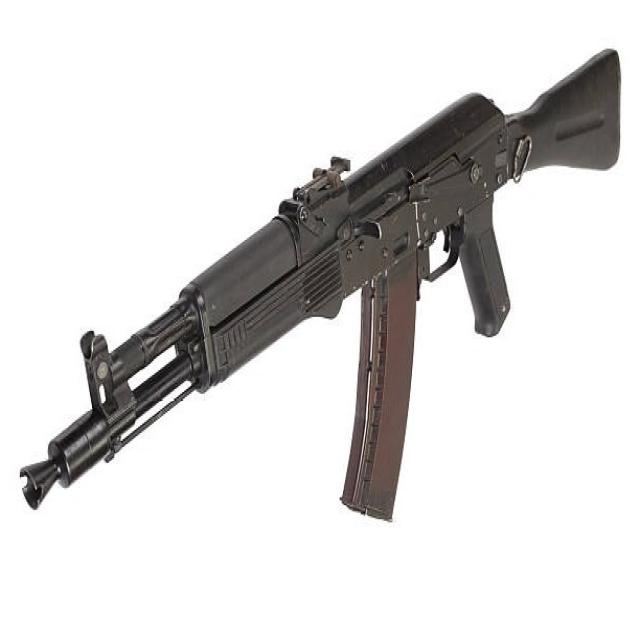rifle: (17, 49, 626, 541)
